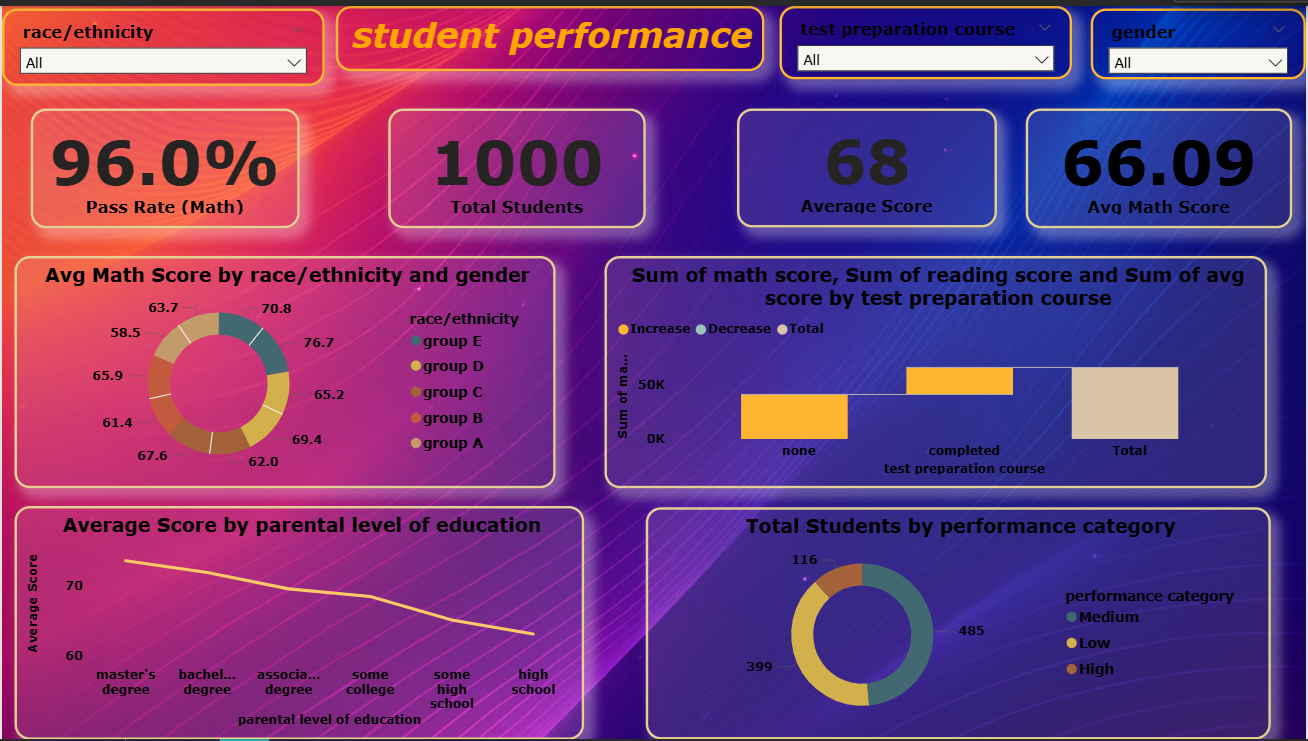

What the dashboard file says about the page in this screenshot:
{"tool":"powerbi","page":{"name":"Page 1","canvas":[1280,720],"ordinal":0},"visuals":[{"type":"card","fields":{"Values":["StudentsPerformance.Average Score"]},"box":[704.3,100.6,255.2,116.6],"z":0},{"type":"card","fields":{"Values":["StudentsPerformance.Avg Math Score"]},"box":[1005.4,100.4,261.4,117.8],"z":1000},{"type":"card","fields":{"Values":["StudentsPerformance.Total Students"]},"box":[379.6,100.4,252.8,117.8],"z":2000},{"type":"card","fields":{"Values":["StudentsPerformance.Pass Rate (Math)"]},"box":[28.7,100.4,263.8,117.8],"z":3000},{"type":"lineChart","fields":{"Category":["StudentsPerformance.parental level of education"],"Y":["StudentsPerformance.Average Score"]},"box":[12.3,490.8,559.5,229.4],"z":4000},{"type":"donutChart","fields":{"Category":["StudentsPerformance.race/ethnicity"],"Series":["StudentsPerformance.gender"],"Y":["StudentsPerformance.Avg Math Score"]},"box":[12.3,245.4,531.3,228.2],"z":5000},{"type":"donutChart","fields":{"Category":["StudentsPerformance.performance category"],"Y":["StudentsPerformance.Total Students"]},"box":[631.9,492,613.5,228.2],"z":6000},{"type":"waterfallChart","fields":{"Y":["Sum(StudentsPerformance.math score)"],"Category":["StudentsPerformance.test preparation course"]},"box":[591.4,245.4,650.3,228.2],"z":7000},{"type":"slicer","fields":{"Values":["StudentsPerformance.gender"]},"box":[1068.7,2.5,211,69.9],"z":8000},{"type":"slicer","fields":{"Values":["StudentsPerformance.race/ethnicity"]},"box":[0,2.5,316.6,76.1],"z":8001},{"type":"slicer","fields":{"Values":["StudentsPerformance.test preparation course"]},"box":[763.2,0,287.1,72.4],"z":8002},{"type":"textbox","title":"student performance","box":[327.6,0,420.9,63.8],"z":8003}]}

Visuals, with their boxes in screenshot pixels (x1, y1, x2, y2), scaled from the page's 1280x720 canvas onto the 1308x741 screenshot:
card - StudentsPerformance.Average Score: detection(720, 104, 980, 224)
card - StudentsPerformance.Avg Math Score: detection(1027, 103, 1295, 225)
card - StudentsPerformance.Total Students: detection(388, 103, 646, 225)
card - StudentsPerformance.Pass Rate (Math): detection(29, 103, 299, 225)
lineChart - StudentsPerformance.parental level of education x StudentsPerformance.Average Score: detection(13, 505, 584, 740)
donutChart - StudentsPerformance.race/ethnicity x StudentsPerformance.gender: detection(13, 253, 555, 487)
donutChart - StudentsPerformance.performance category x StudentsPerformance.Total Students: detection(646, 506, 1273, 740)
waterfallChart - Sum(StudentsPerformance.math score) x StudentsPerformance.test preparation course: detection(604, 253, 1269, 487)
slicer - StudentsPerformance.gender: detection(1092, 3, 1307, 75)
slicer - StudentsPerformance.race/ethnicity: detection(0, 3, 324, 81)
slicer - StudentsPerformance.test preparation course: detection(780, 0, 1073, 75)
"student performance" textbox: detection(335, 0, 765, 66)
